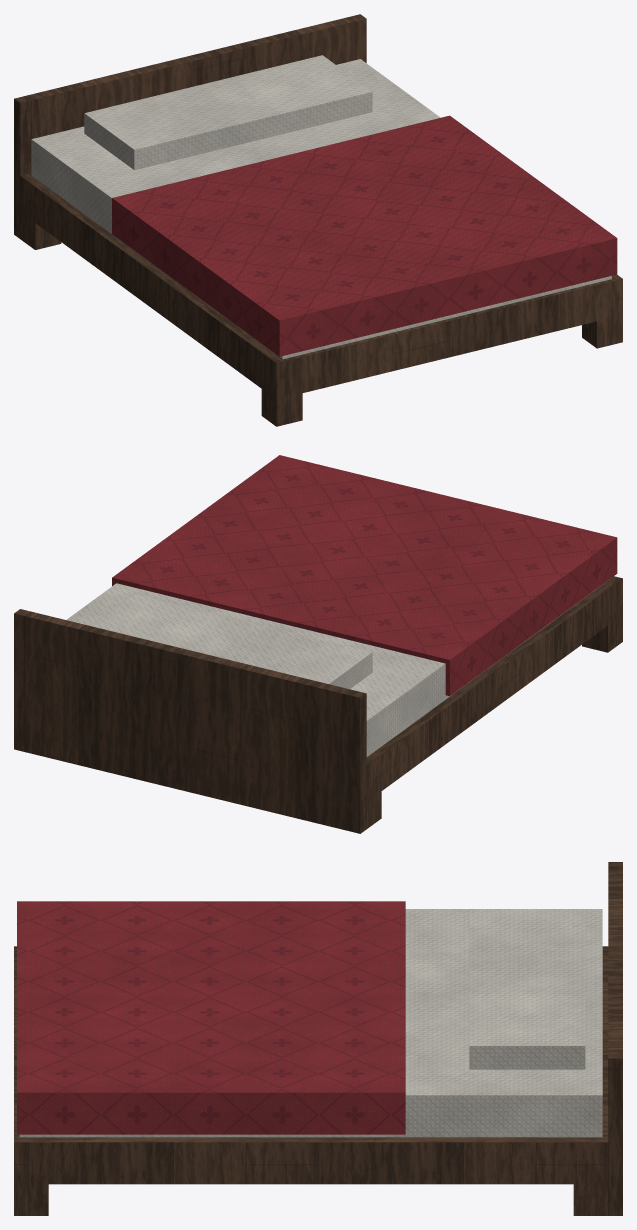
Rendered from PRP_Cama.fbx.
The picture shows the model from 3 angles, top to bottom: view 1: azimuth 30°, elevation 25°; view 2: azimuth 150°, elevation 25°; view 3: azimuth 270°, elevation 25°; orthographic projection. The views are drawn at different scales.
Parts seen in each view (by area): view 1: PRP_Cama; view 2: PRP_Cama; view 3: PRP_Cama.
Boxes of the visible parts, left/top/right/bottom form: PRP_Cama: left=14, top=14, right=622, bottom=426; PRP_Cama: left=14, top=455, right=622, bottom=833; PRP_Cama: left=14, top=862, right=622, bottom=1215.
Size of the model in its own units: 1.6 by 0.6 by 2.1.
